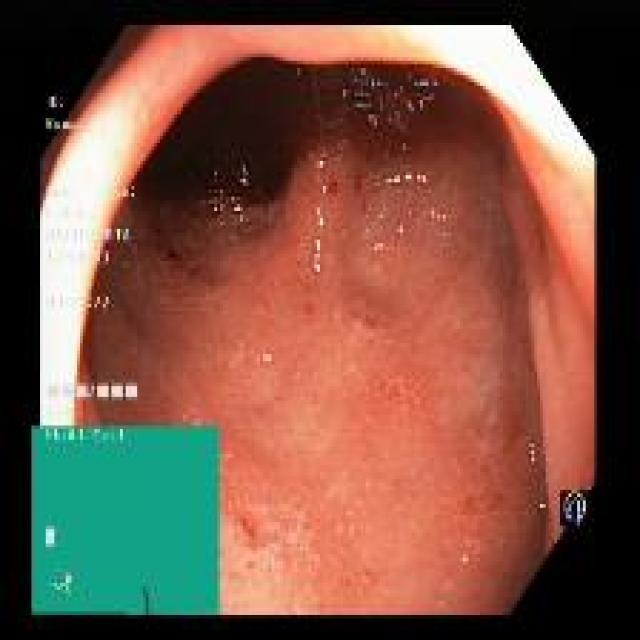ulcerative-colitis: (76, 59, 550, 614)
